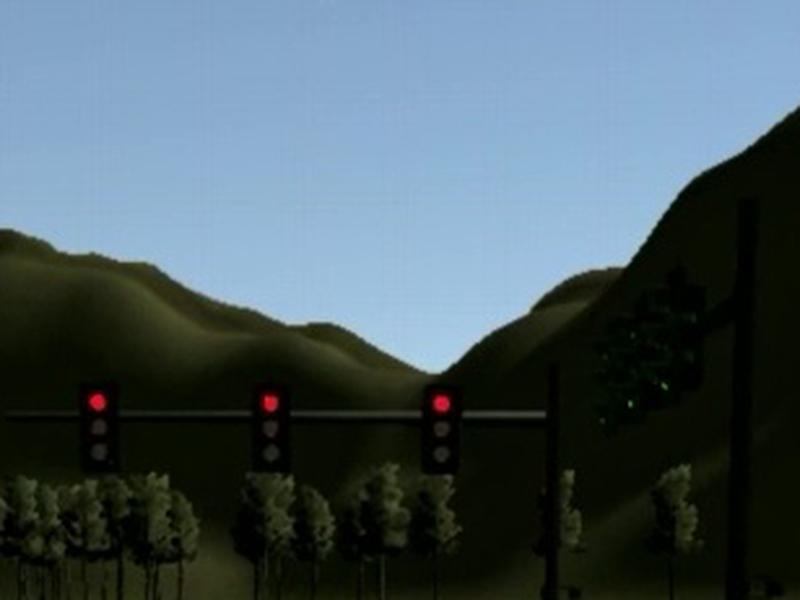Red: (80, 382, 121, 470), (254, 386, 292, 468), (426, 384, 460, 471)
